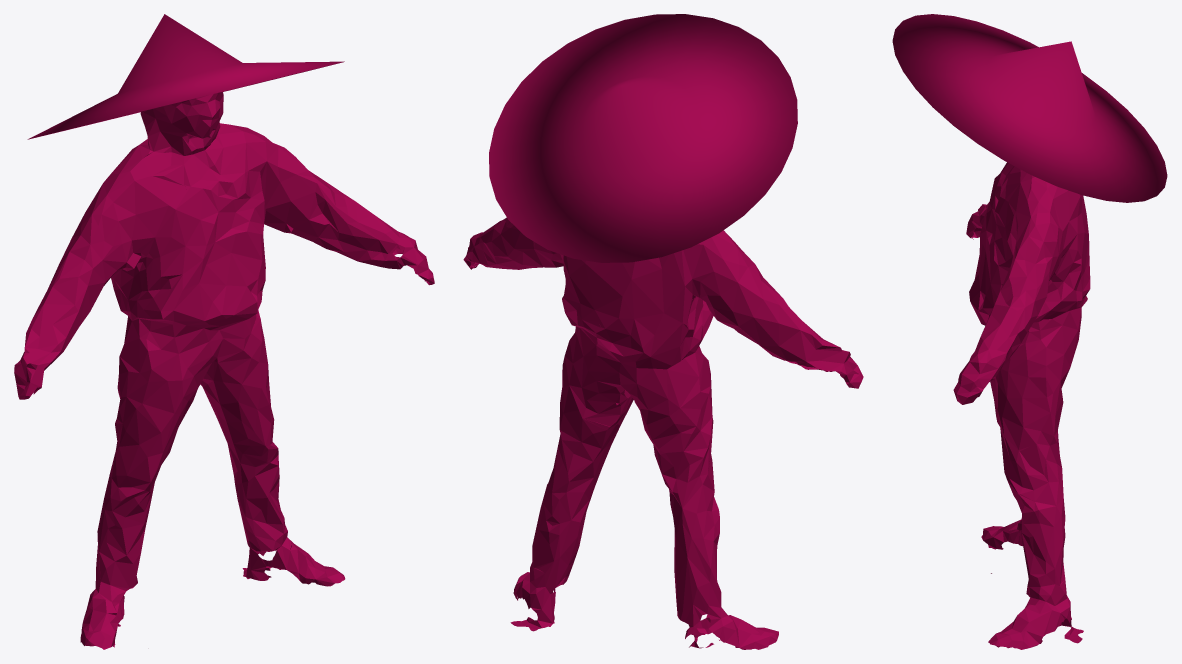
File: abdushattered.fbx
3 views of the same model, side by side, from view 1: azimuth 30°, elevation 25°; view 2: azimuth 150°, elevation 25°; view 3: azimuth 270°, elevation 25° (orthographic). The views are drawn at different scales.
Visible parts, largest first — view 1: Cone_cell.020, Cone_cell.003, Cone_cell.014, Cone_cell.010, Cone_cell.019, Cone_cell.017, Cone_cell.030, Cone_cell.025, Cone_cell.018, Cone_cell, Cone_cell.006, Cone_cell.033 (+5 smaller); view 2: Cone_cell.003, Cone_cell.020, Cone_cell.005, Cone_cell.022, Cone_cell.021, Cone_cell.029, Cone_cell.032, Cone_cell.002, Cone_cell.036, Cone_cell.028; view 3: Cone_cell.003, Cone_cell.020, Cone_cell, Cone_cell.036, Cone_cell.021, Cone_cell.033, Cone_cell.013, Cone_cell.008, Cone_cell.014, Cone_cell.006, Cone_cell.032, Cone_cell.027 (+4 smaller).
Part boxes in pixels (x1=…): Cone_cell.020: x1=14, y1=92, x2=434, y2=649; Cone_cell.003: x1=27, y1=14, x2=344, y2=139; Cone_cell.014: x1=156, y1=124, x2=257, y2=206; Cone_cell.010: x1=66, y1=205, x2=171, y2=290; Cone_cell.019: x1=95, y1=128, x2=194, y2=222; Cone_cell.017: x1=14, y1=260, x2=102, y2=399; Cone_cell.030: x1=164, y1=204, x2=234, y2=291; Cone_cell.025: x1=121, y1=289, x2=202, y2=386; Cone_cell.018: x1=164, y1=266, x2=243, y2=347; Cone_cell: x1=225, y1=160, x2=268, y2=272; Cone_cell.006: x1=294, y1=184, x2=370, y2=256; Cone_cell.033: x1=245, y1=127, x2=331, y2=209; Cone_cell.003: x1=489, y1=14, x2=797, y2=262; Cone_cell.020: x1=463, y1=217, x2=863, y2=647; Cone_cell.005: x1=552, y1=447, x2=601, y2=551; Cone_cell.022: x1=671, y1=509, x2=717, y2=594; Cone_cell.021: x1=510, y1=538, x2=570, y2=631; Cone_cell.029: x1=653, y1=384, x2=713, y2=480; Cone_cell.032: x1=558, y1=411, x2=623, y2=468; Cone_cell.002: x1=663, y1=456, x2=719, y2=545; Cone_cell.036: x1=534, y1=446, x2=559, y2=549; Cone_cell.028: x1=720, y1=620, x2=776, y2=649; Cone_cell.003: x1=892, y1=14, x2=1167, y2=202; Cone_cell.020: x1=953, y1=179, x2=1090, y2=647; Cone_cell: x1=983, y1=204, x2=1016, y2=290; Cone_cell.036: x1=1007, y1=458, x2=1065, y2=560; Cone_cell.021: x1=1038, y1=552, x2=1083, y2=643; Cone_cell.033: x1=1005, y1=186, x2=1047, y2=280; Cone_cell.013: x1=998, y1=386, x2=1061, y2=451; Cone_cell.008: x1=960, y1=322, x2=1010, y2=397; Cone_cell.014: x1=993, y1=163, x2=1044, y2=206; Cone_cell.006: x1=986, y1=280, x2=1025, y2=327; Cone_cell.032: x1=1004, y1=400, x2=1062, y2=476; Cone_cell.027: x1=973, y1=277, x2=999, y2=325.
Bounding box in the file's own units: 257 × 355 × 158.
